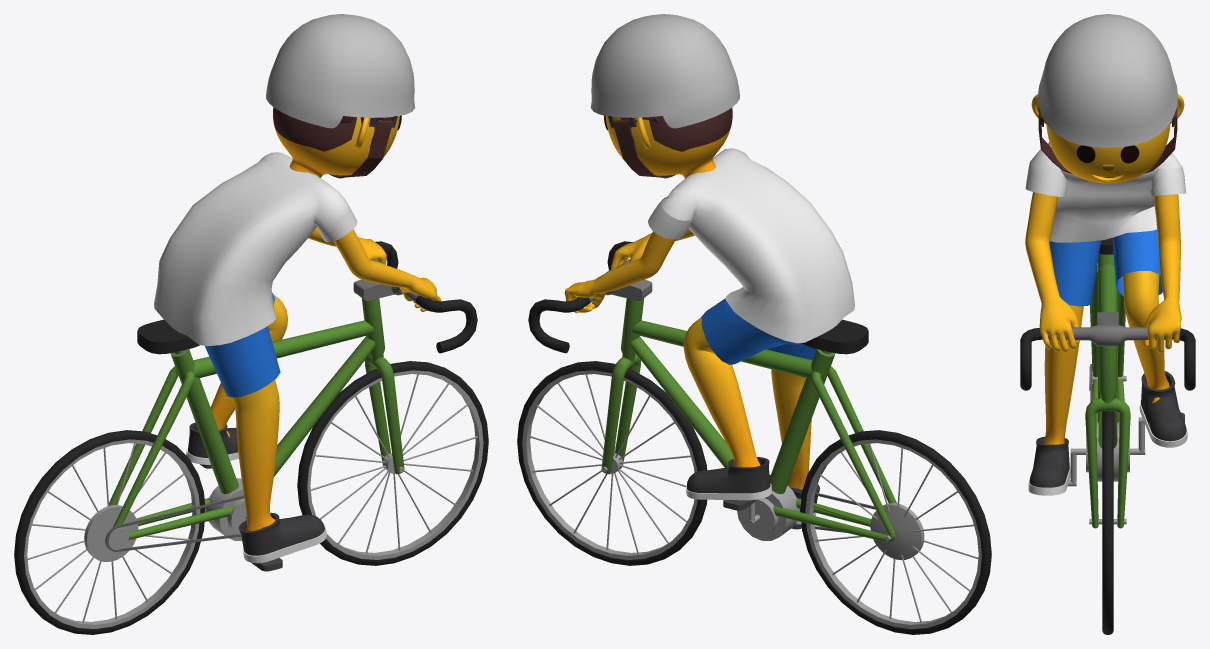
The model's file is person_biking.gltf.
3 views of the same model, side by side, from view 1: azimuth 30°, elevation 25°; view 2: azimuth 150°, elevation 25°; view 3: azimuth 270°, elevation 25° (orthographic). The views are drawn at different scales.
Parts seen in each view (by area): view 1: Circle.196, Circle.191, Cube.307, Roundcube.477, Sphere.450, Sphere.449, Circle.198; view 2: Circle.196, Circle.191, Cube.307, Roundcube.477, Sphere.449, Circle.198; view 3: Circle.191, Cube.307, Circle.196, Roundcube.477, Sphere.449, Sphere.450, Circle.198, Circle.192, Cylinder.398.
Part boxes in pixels (x1,y1,x2,y2): Circle.196: (14,241,488,634); Circle.191: (154,152,441,530); Cube.307: (266,14,415,128); Roundcube.477: (273,107,399,177); Sphere.450: (238,512,326,563); Sphere.449: (186,422,238,464); Circle.198: (329,119,392,178); Circle.196: (517,241,991,634); Circle.191: (564,148,854,489); Cube.307: (590,14,739,128); Roundcube.477: (605,107,732,178); Sphere.449: (686,457,772,500); Circle.198: (613,119,675,178); Circle.191: (1025,142,1186,444); Cube.307: (1038,14,1177,147); Circle.196: (1020,238,1195,634); Roundcube.477: (1046,123,1170,183); Sphere.449: (1139,371,1187,447); Sphere.450: (1028,436,1070,495); Circle.198: (1038,108,1177,173); Circle.192: (1076,145,1139,163); Cylinder.398: (1031,94,1184,123).
Size of the model in its own units: 2.05 by 2.3 by 0.6372.
Materials: 8 (2 with a texture image).
